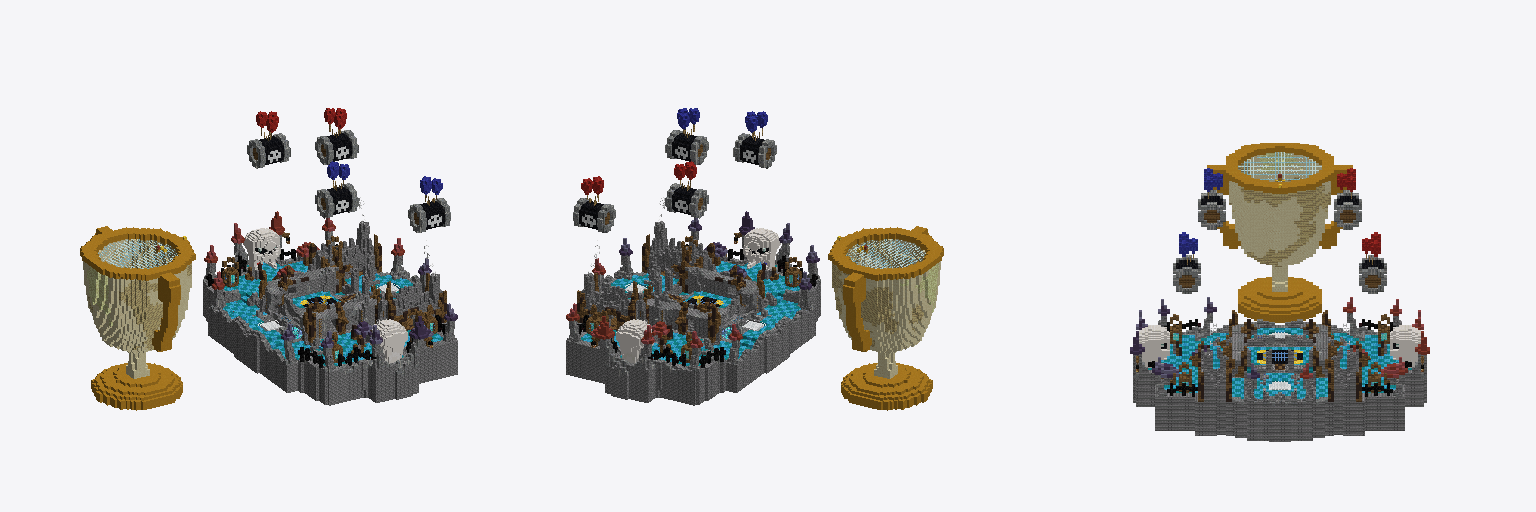
3 renders of one model, left to right at view 1: azimuth 30°, elevation 25°; view 2: azimuth 150°, elevation 25°; view 3: azimuth 270°, elevation 25°, orthographic.
Bounding box in the file's own units: 122 × 76 × 97.
47 materials, 46 textured.